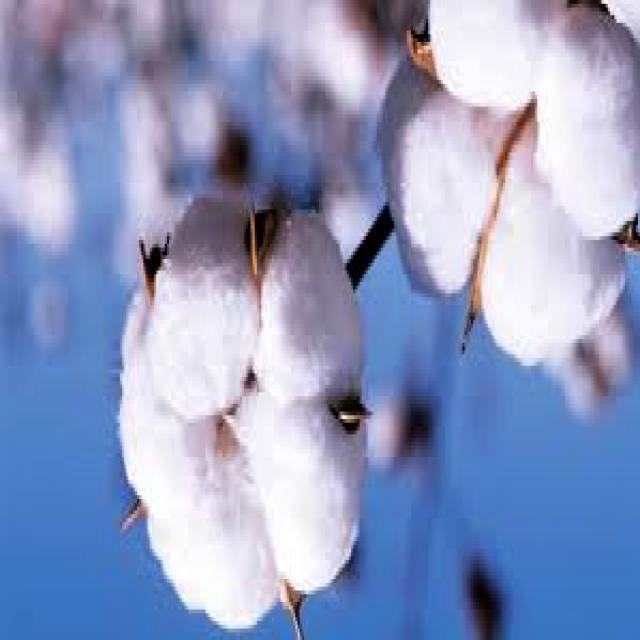Matured Cotton Boll: (118, 202, 356, 628), (379, 0, 640, 364)
